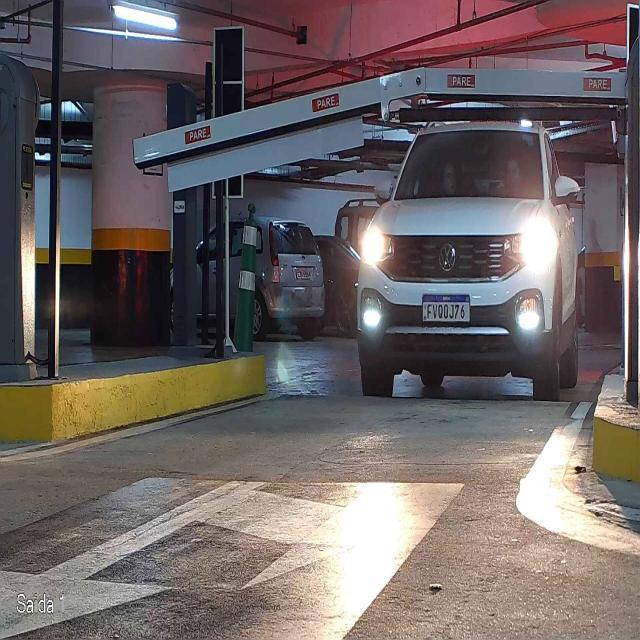mercosul_plate: (421, 292, 471, 324)
